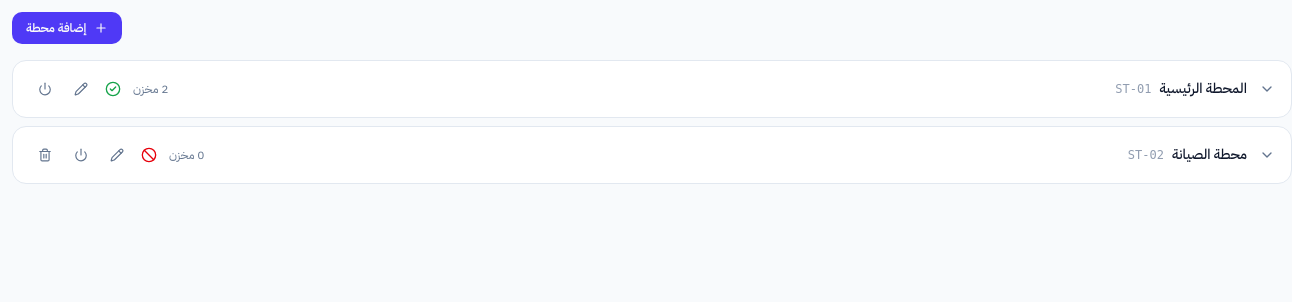
Scenario: StationsWarehouses — read-only accordion › shows an explicit note for a station that has no warehouses
This screenshot has width=1292, height=302.
Click the button "محطة الصيانة ST-02 0 مخزن". click: (1209,154)
box: [141,145,1275,165]
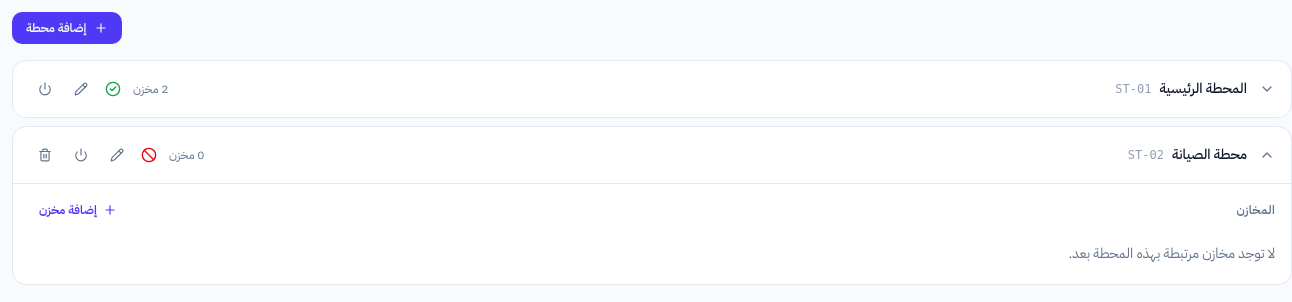
Now the text "لا توجد مخازن مرتبطة بهذه المحطة بعد." is shown, box [1068,243,1275,264]
